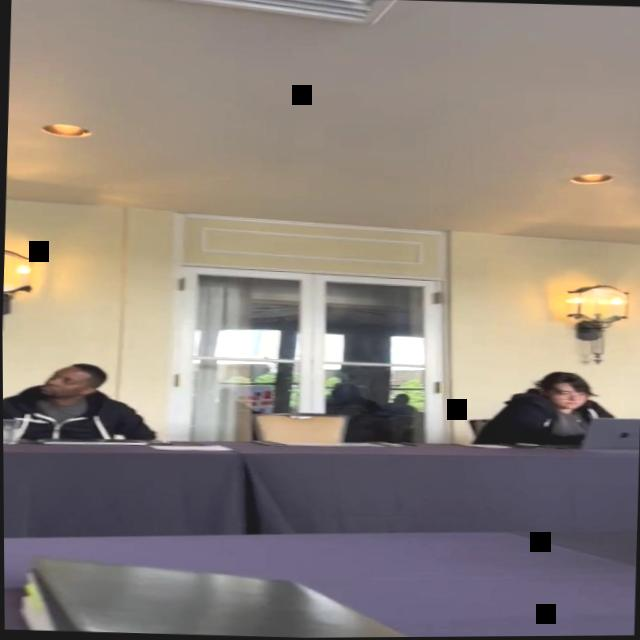NO-Mask: (38, 365, 95, 400), (551, 384, 592, 415)
